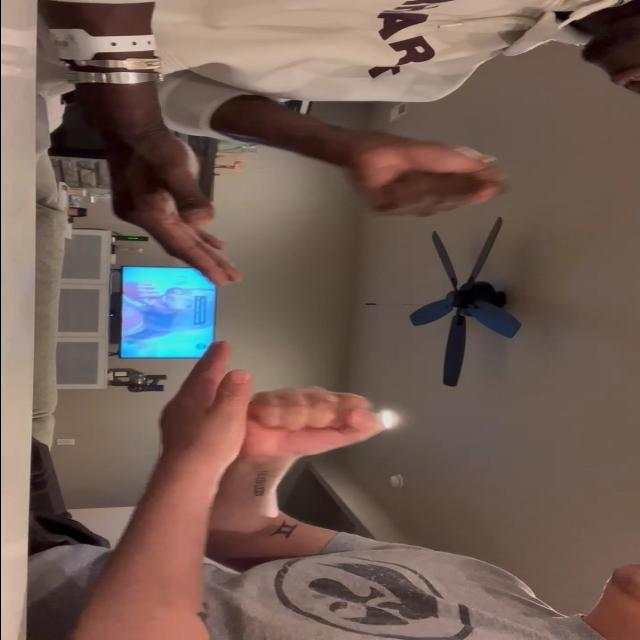Rock: (356, 134, 518, 215), (240, 388, 388, 458)
